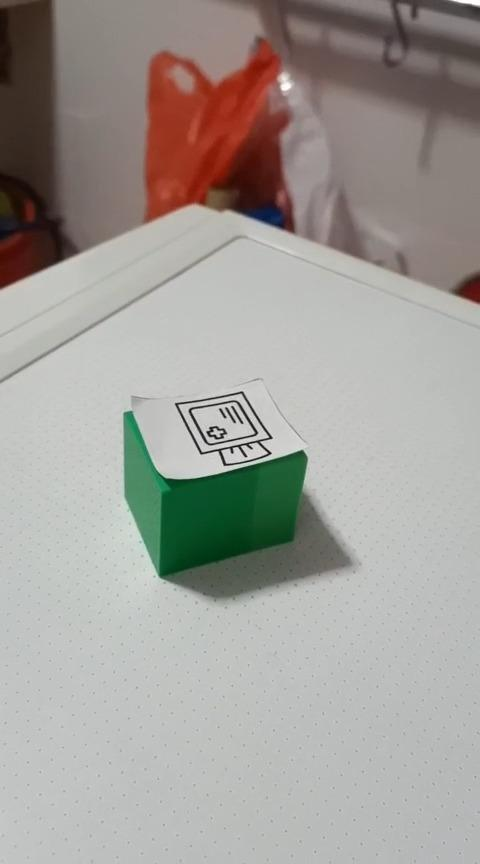Gauze: (121, 376, 309, 578)
